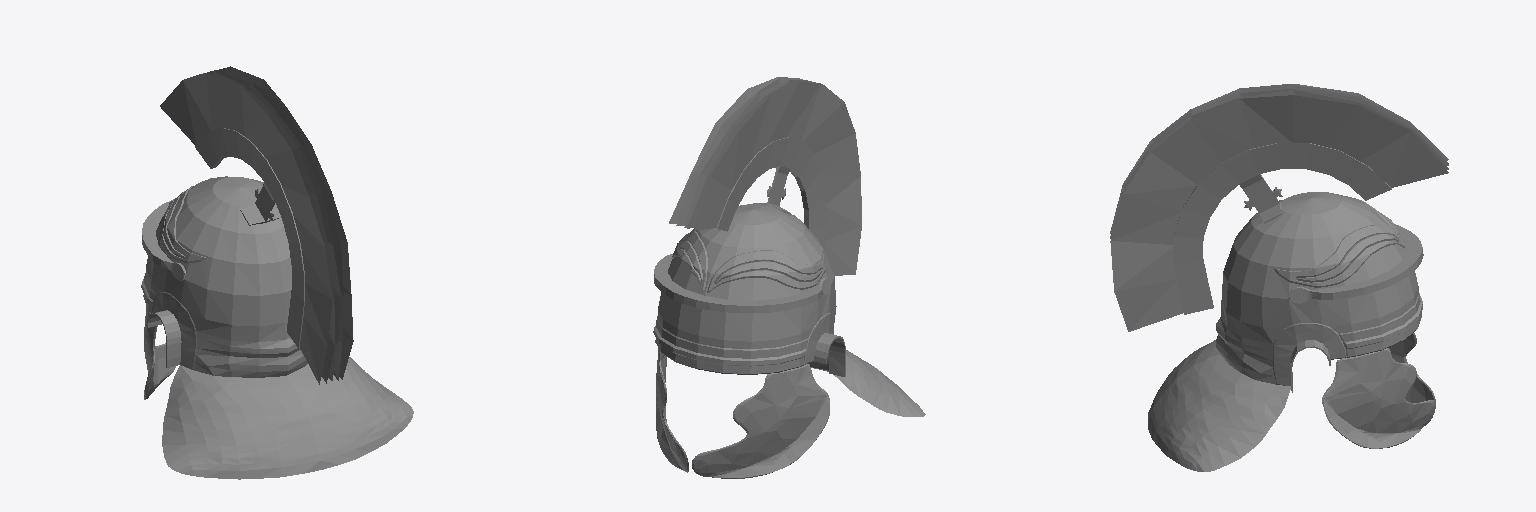
Rendered from roman_helmet.obj.
3 views of the same model, side by side, from view 1: azimuth 30°, elevation 25°; view 2: azimuth 150°, elevation 25°; view 3: azimuth 270°, elevation 25° (orthographic).
Visible parts, largest first — view 1: Sphere01, Object01; view 2: Sphere01, Object01; view 3: Sphere01, Object01.
Boxes of the visible parts, box(x1,y1,x2,y2) form: Sphere01: box(141, 128, 413, 479); Object01: box(160, 66, 353, 384); Sphere01: box(653, 137, 925, 478); Object01: box(669, 77, 861, 275); Sphere01: box(1148, 143, 1435, 471); Object01: box(1110, 84, 1448, 331).
Bounding box in the file's own units: 20.8 × 27.43 × 25.1.